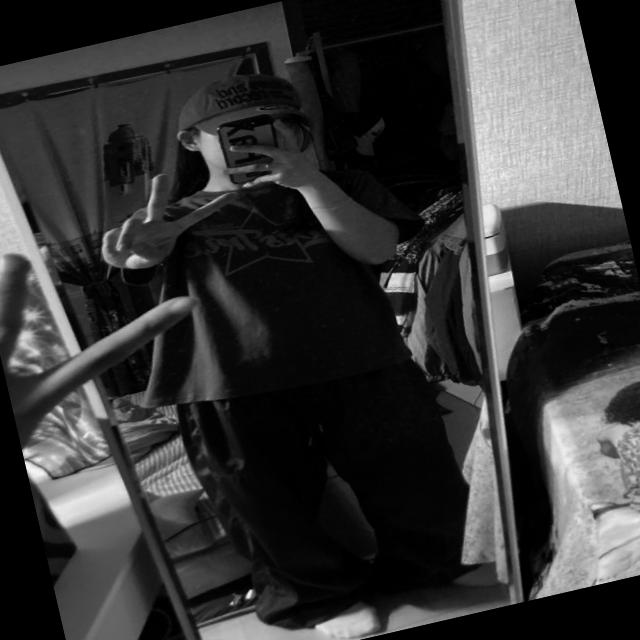cottonpants: (171, 336, 491, 640)
shortsleeve: (89, 137, 454, 425)
